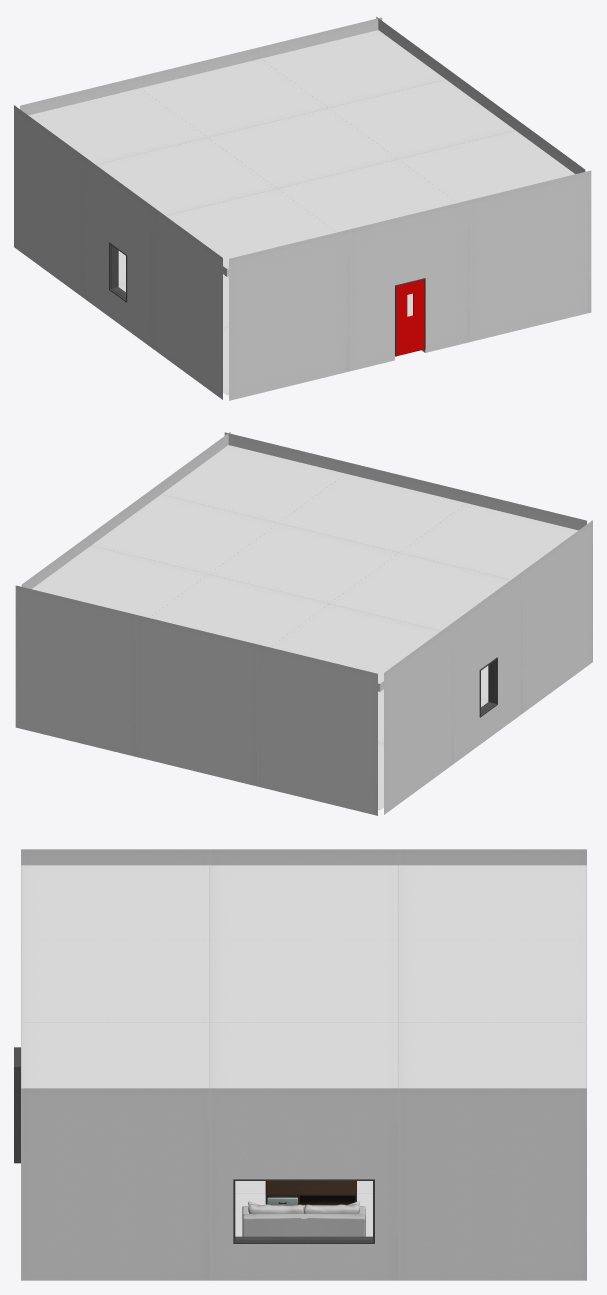
3 renders of one model, top to bottom at view 1: azimuth 30°, elevation 25°; view 2: azimuth 150°, elevation 25°; view 3: azimuth 270°, elevation 25°, orthographic. The views are drawn at different scales.
Visible parts, largest first — view 1: CombinedMesh, Door1x2_25WindShape_1; view 2: CombinedMesh; view 3: CombinedMesh, readyobjcleanermaterialmergergles_1, node_0-0-0-0-0.
Part boxes in pixels (left/top/right/bottom): CombinedMesh: left=14, top=17, right=591, bottom=400; Door1x2_25WindShape_1: left=396, top=279, right=424, bottom=355; CombinedMesh: left=15, top=432, right=592, bottom=815; CombinedMesh: left=14, top=849, right=586, bottom=1280; readyobjcleanermaterialmergergles_1: left=242, top=1201, right=365, bottom=1236; node_0-0-0-0-0: left=265, top=1181, right=356, bottom=1205.
Bounding box in the file's own units: 12.3 × 4.5 × 12.27.
